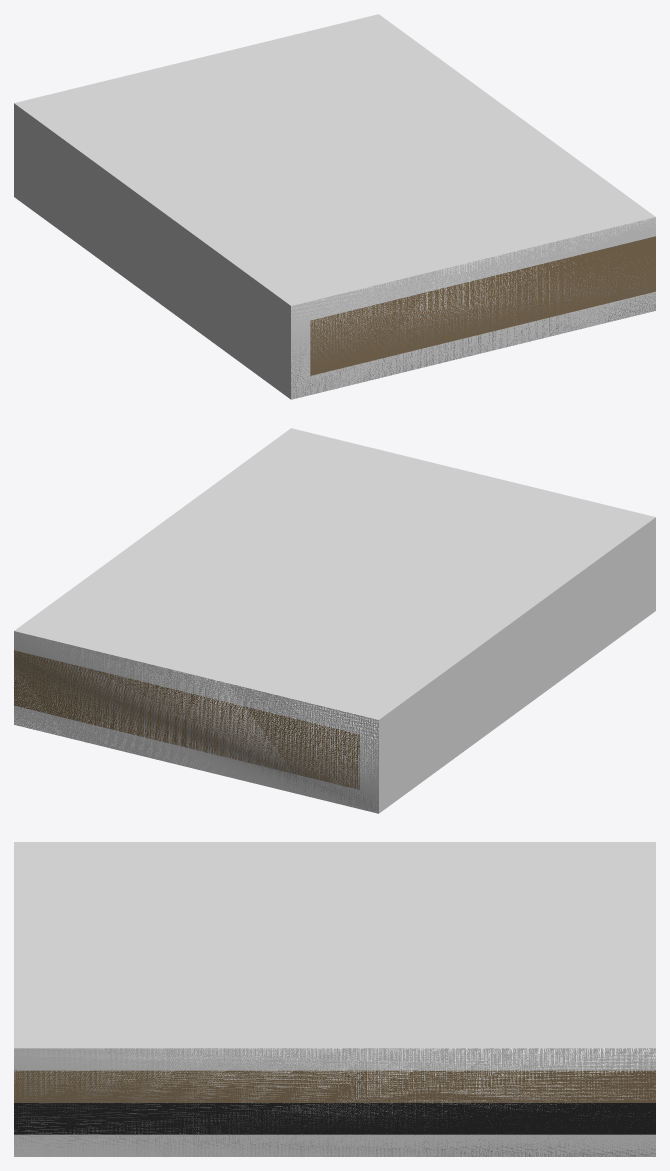
The model's file is Book_Mesh.fbx.
The picture shows the model from 3 angles, top to bottom: view 1: azimuth 30°, elevation 25°; view 2: azimuth 150°, elevation 25°; view 3: azimuth 270°, elevation 25°; orthographic projection. The views are drawn at different scales.
Parts seen in each view (by area): view 1: Book, Book_Outline; view 2: Book, Book_Outline; view 3: Book, Book_Outline.
Part boxes in pixels (box(x1,y1,x2,y2)): Book: box(14, 14, 655, 399); Book_Outline: box(291, 217, 655, 398); Book: box(14, 428, 655, 813); Book_Outline: box(14, 631, 378, 812); Book: box(14, 842, 655, 1156); Book_Outline: box(14, 1048, 655, 1156).
Bounding box in the file's own units: 22.8 × 5.6 × 30.
